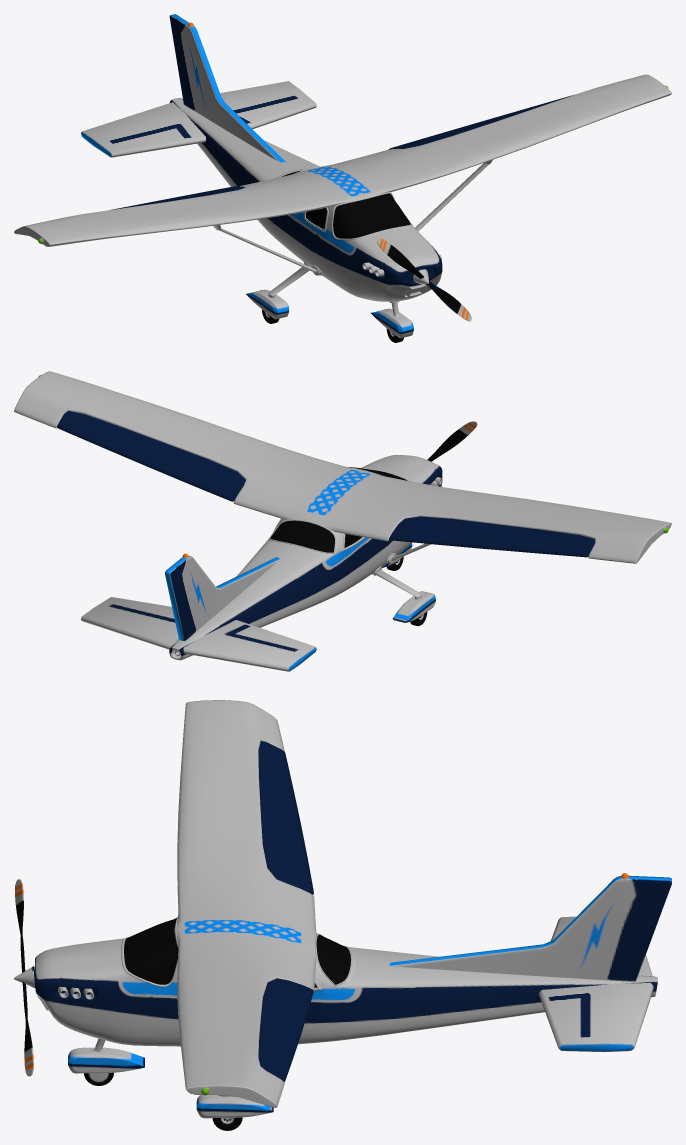
3 views of the same model, one above another, from view 1: azimuth 30°, elevation 25°; view 2: azimuth 150°, elevation 25°; view 3: azimuth 270°, elevation 25° (orthographic). The views are drawn at different scales.
Parts seen in each view (by area): view 1: plane, propellor; view 2: plane, propellor; view 3: plane, propellor.
Boxes of the visible parts, box(x1,y1,x2,y2) form: plane: box(14, 14, 671, 342); propellor: box(377, 238, 471, 321); plane: box(14, 371, 671, 671); propellor: box(427, 421, 477, 461); plane: box(14, 700, 671, 1130); propellor: box(15, 879, 33, 1076).
Bounding box in the file's own units: 341 × 86.29 × 242.
